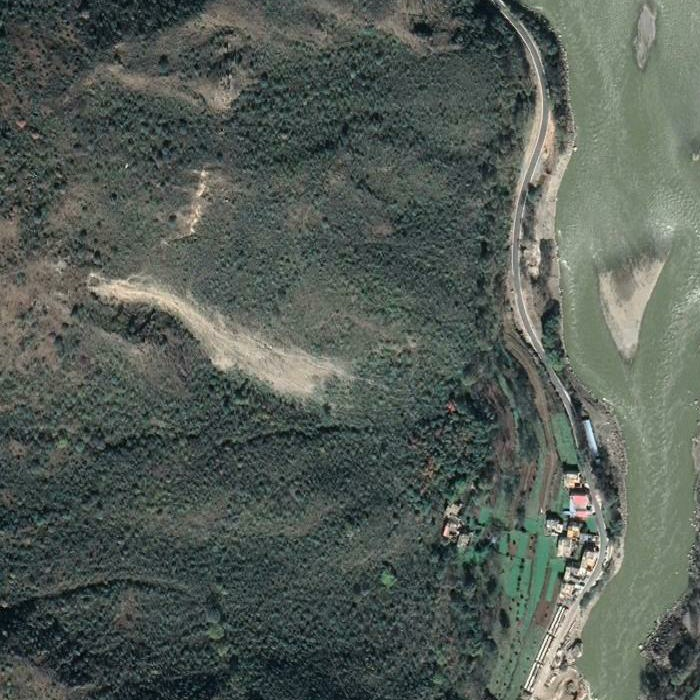slope: (89, 271, 377, 412)
